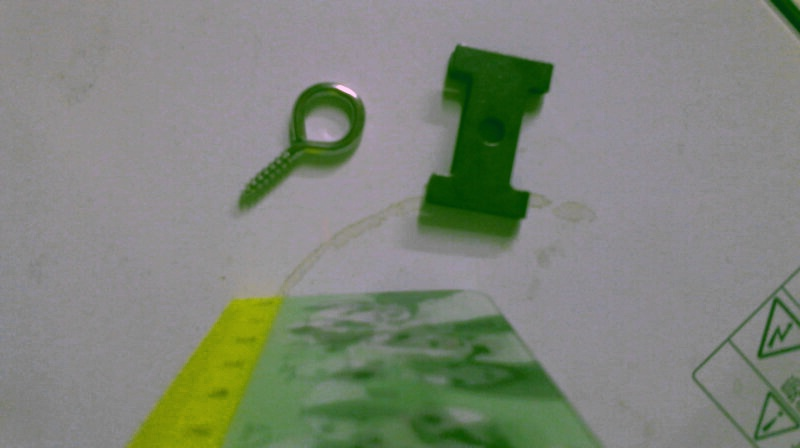O001: (230, 78, 369, 215)
O002: (417, 43, 556, 219)
